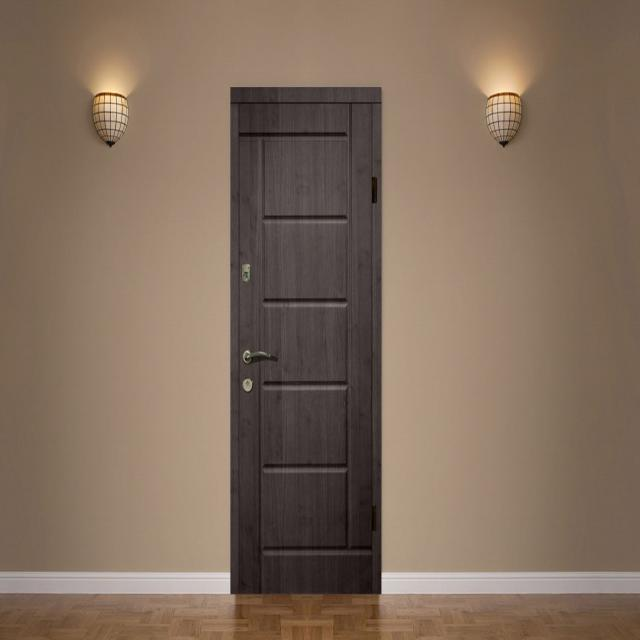close: (233, 88, 379, 593)
